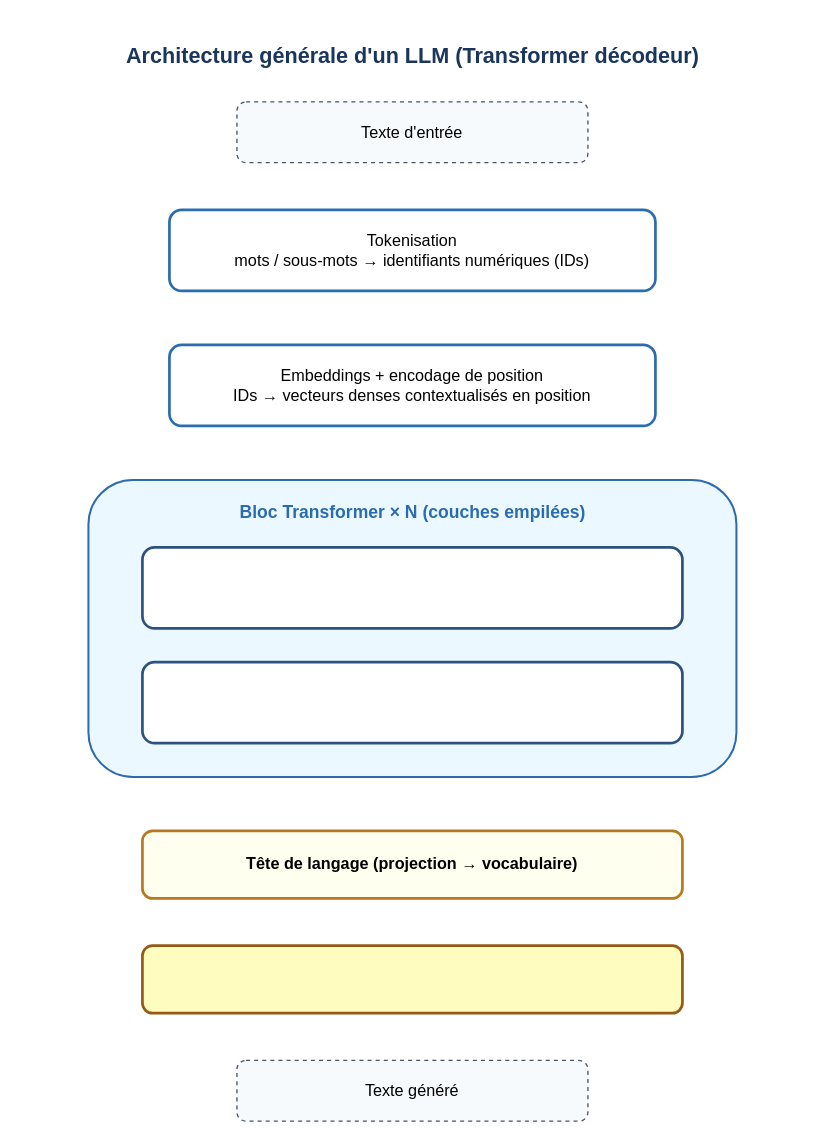
Some shapes in this 813 by 1145 pixel diagram are drawn without their labels. The centre of each missing label's shape, as x and y in pixels:
Réseau feed-forward (MLP) + résidus / normalisation: pixel 411 702
Self-attention multi-têtes chaque token contextualise les précédents (causale): pixel 411 587
Softmax → prochain token (génération auto-régressive): pixel 411 979
